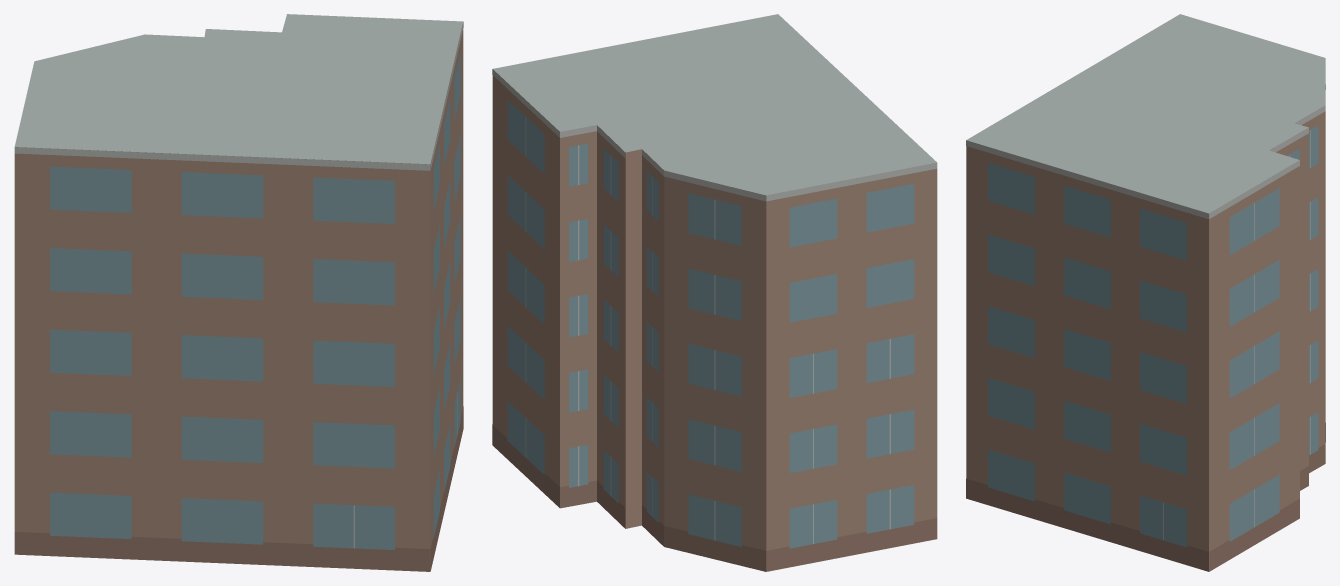
File: survey-upis-32904971.glb
The picture shows the model from 3 angles, left to right: view 1: azimuth 30°, elevation 25°; view 2: azimuth 150°, elevation 25°; view 3: azimuth 270°, elevation 25°; orthographic projection. The views are drawn at different scales.
Visible parts, largest first — view 1: survey-upis-32904971.tmp; view 2: survey-upis-32904971.tmp; view 3: survey-upis-32904971.tmp.
Boxes of the visible parts, <box> form: survey-upis-32904971.tmp: <box>14,14,463,571</box>; survey-upis-32904971.tmp: <box>492,14,937,571</box>; survey-upis-32904971.tmp: <box>966,14,1325,571</box>.
Size of the model in its own units: 18.22 by 15.25 by 13.88.
